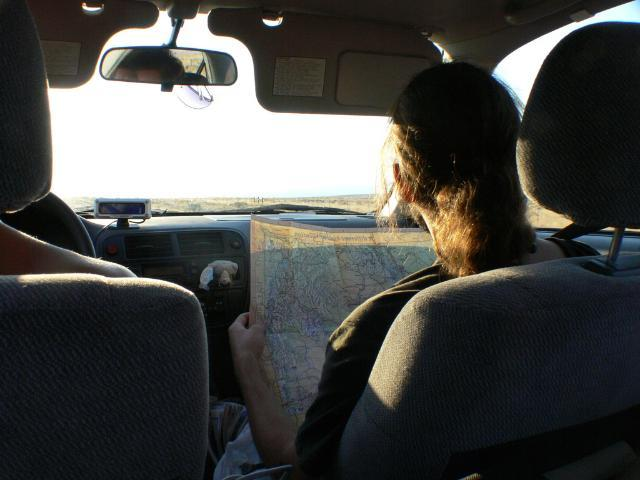Seatbelt: (550, 222, 604, 240)
